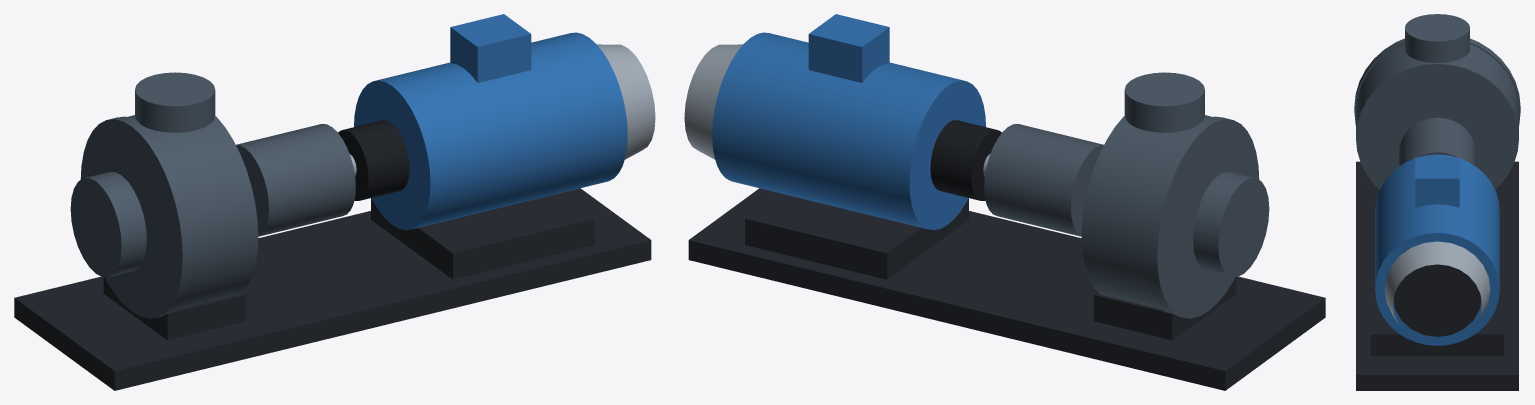
The model's file is pump.glb.
The picture shows the model from 3 angles, left to right: view 1: azimuth 30°, elevation 25°; view 2: azimuth 150°, elevation 25°; view 3: azimuth 270°, elevation 25°; orthographic projection. The views are drawn at different scales.
Parts seen in each view (by area): view 1: Baseplate, Motor_Body, Casing_Cover, Pump_Casing, Motor_Feet, Bearing_Housing, Suction_Flange, Motor_Terminal_Box, Discharge_Flange, Coupling, Fan_Cowl, Pump_Feet; view 2: Baseplate, Motor_Body, Casing_Cover, Pump_Casing, Motor_Feet, Bearing_Housing, Suction_Flange, Motor_Terminal_Box, Discharge_Flange, Coupling, Fan_Cowl, Pump_Feet; view 3: Pump_Casing, Baseplate, Motor_Body, Motor_Fan, Motor_Feet, Fan_Cowl, Discharge_Flange, Bearing_Housing, Motor_Terminal_Box, Casing_Cover.
Part boxes in pixels (left/top/right/bottom): Baseplate: left=14, top=188, right=651, bottom=390; Motor_Body: left=354, top=32, right=627, bottom=230; Casing_Cover: left=80, top=116, right=193, bottom=318; Pump_Casing: left=128, top=115, right=258, bottom=309; Motor_Feet: left=371, top=193, right=594, bottom=279; Bearing_Housing: left=236, top=124, right=355, bottom=236; Suction_Flange: left=70, top=172, right=146, bottom=276; Motor_Terminal_Box: left=450, top=14, right=531, bottom=82; Discharge_Flange: left=135, top=72, right=215, bottom=132; Coupling: left=338, top=120, right=409, bottom=200; Fan_Cowl: left=597, top=44, right=655, bottom=159; Pump_Feet: left=103, top=277, right=246, bottom=340; Baseplate: left=688, top=188, right=1325, bottom=390; Motor_Body: left=712, top=32, right=985, bottom=230; Casing_Cover: left=1146, top=116, right=1259, bottom=318; Pump_Casing: left=1081, top=115, right=1211, bottom=309; Motor_Feet: left=745, top=193, right=968, bottom=279; Bearing_Housing: left=984, top=124, right=1103, bottom=236; Suction_Flange: left=1193, top=172, right=1269, bottom=276; Motor_Terminal_Box: left=808, top=14, right=889, bottom=82; Discharge_Flange: left=1124, top=72, right=1204, bottom=132; Coupling: left=930, top=120, right=1001, bottom=200; Fan_Cowl: left=684, top=44, right=742, bottom=159; Pump_Feet: left=1093, top=277, right=1236, bottom=340; Pump_Casing: left=1356, top=44, right=1518, bottom=189; Baseplate: left=1356, top=161, right=1518, bottom=390; Motor_Body: left=1375, top=154, right=1499, bottom=345; Motor_Fan: left=1393, top=264, right=1481, bottom=336; Motor_Feet: left=1370, top=278, right=1504, bottom=355; Fan_Cowl: left=1384, top=241, right=1490, bottom=322; Discharge_Flange: left=1405, top=14, right=1469, bottom=62; Bearing_Housing: left=1399, top=117, right=1475, bottom=166; Motor_Terminal_Box: left=1415, top=157, right=1459, bottom=207; Casing_Cover: left=1354, top=38, right=1520, bottom=125.
Size of the model in its own units: 3.57 by 1.44 by 1.12.
